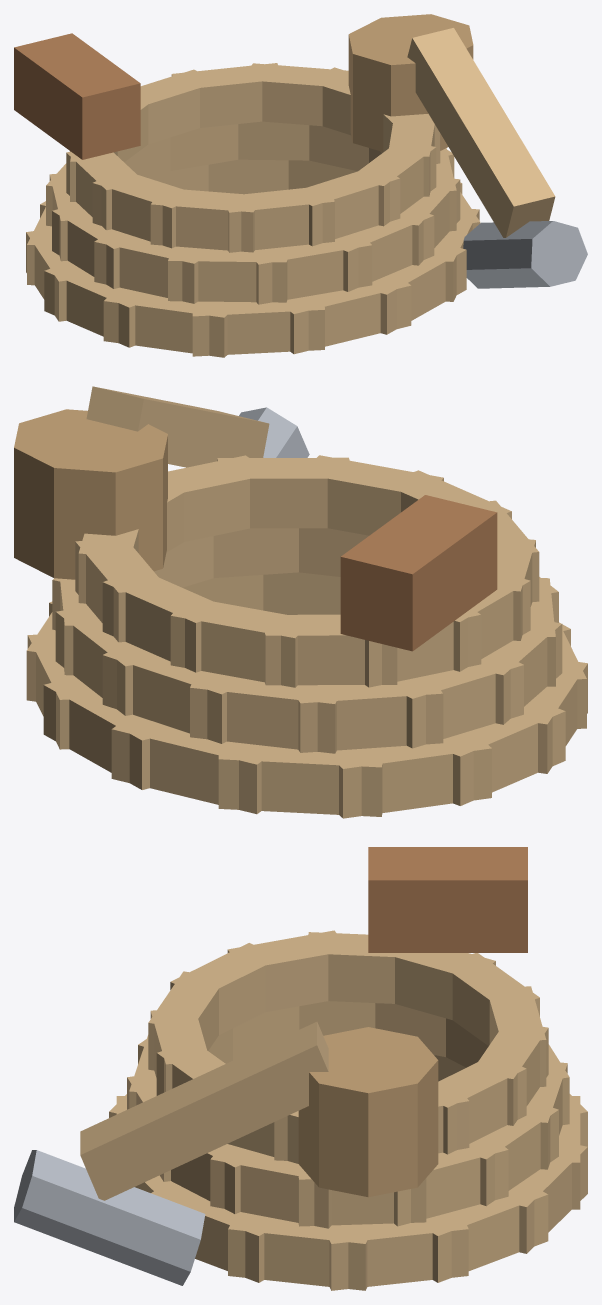
File: lasso.glb
The picture shows the model from 3 angles, top to bottom: view 1: azimuth 30°, elevation 25°; view 2: azimuth 150°, elevation 25°; view 3: azimuth 270°, elevation 25°; orthographic projection. The views are drawn at different scales.
Visible parts, largest first — view 1: lasso; view 2: lasso; view 3: lasso.
Part boxes in pixels (x1,y1,x2,y2): lasso: (14,14,587,357); lasso: (14,386,587,818); lasso: (14,847,587,1290).
Size of the model in its own units: 0.5 by 0.2361 by 0.5.
